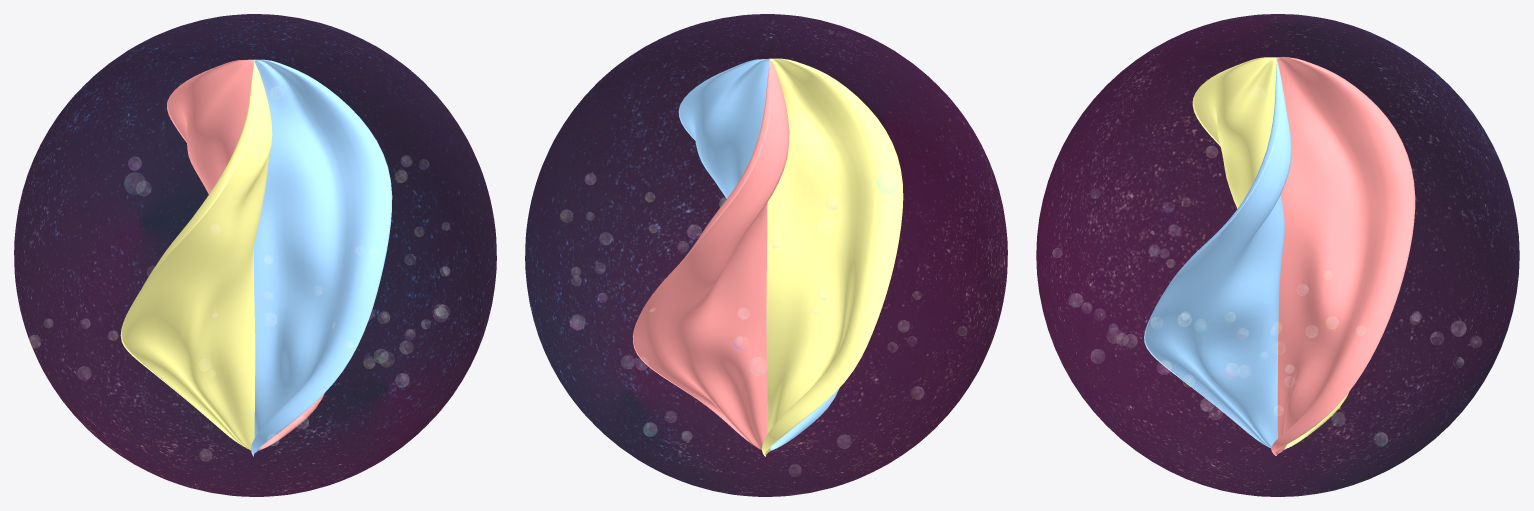
The model's file is marble_ball.glb.
3 renders of one model, left to right at view 1: azimuth 30°, elevation 25°; view 2: azimuth 150°, elevation 25°; view 3: azimuth 270°, elevation 25°, orthographic.
Size of what is drawn, in the model's own units: 2.15 by 2.15 by 2.15.
3 materials, 3 textured.
